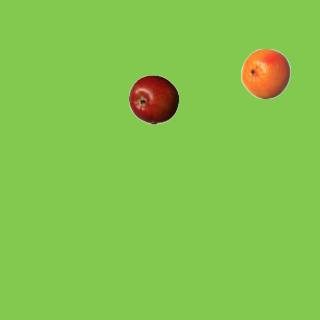Apple Braeburn: (128, 74, 178, 124)
Grapefruit Pink: (240, 48, 290, 98)
